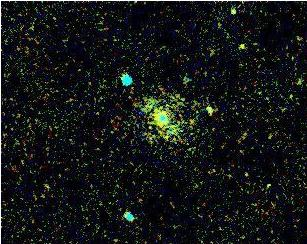star: (224, 31, 254, 61)
